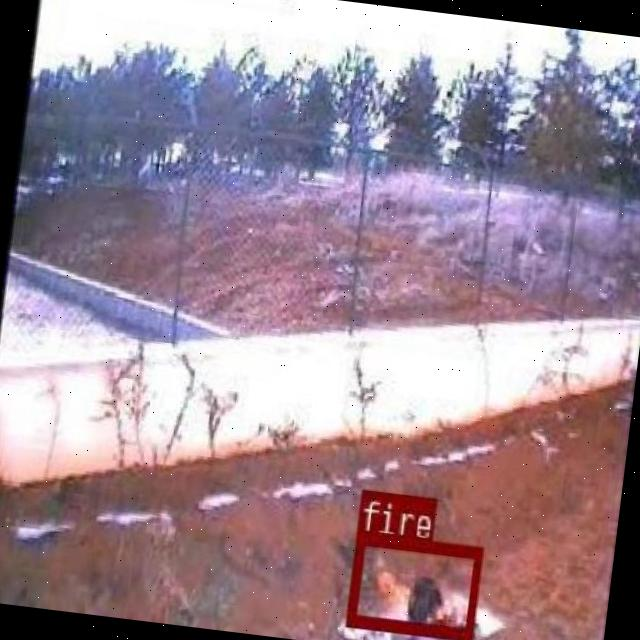fire: (345, 530, 481, 639)
